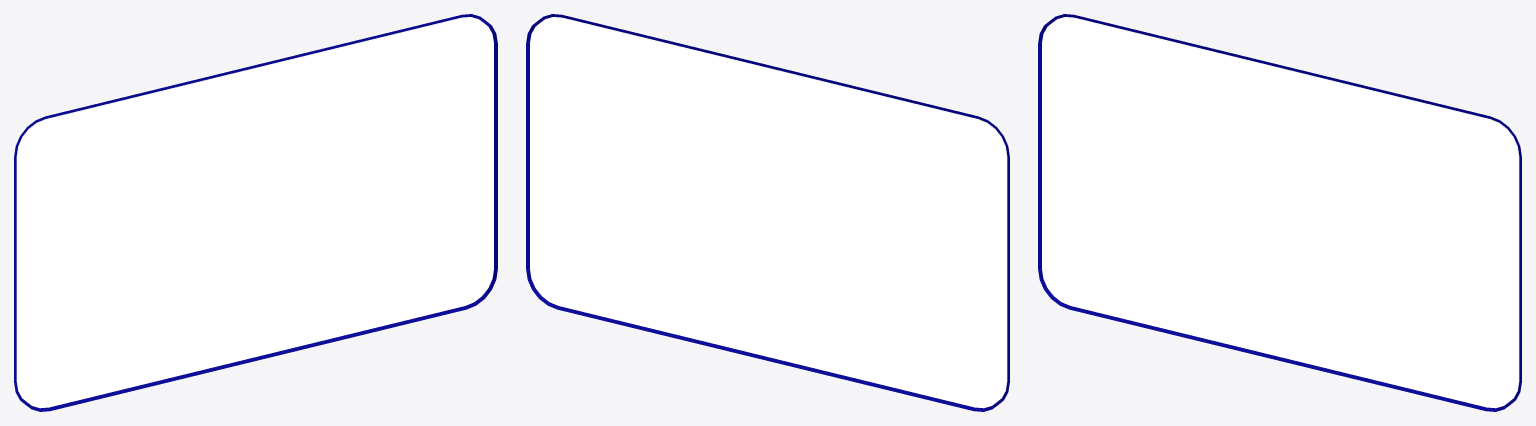
The model's file is InfoSMPL.glb.
3 renders of one model, left to right at view 1: azimuth 30°, elevation 25°; view 2: azimuth 150°, elevation 25°; view 3: azimuth 330°, elevation 25°, orthographic.
Visible parts, largest first — view 1: Plane; view 2: Plane; view 3: Plane.
Boxes of the visible parts, <box> form: Plane: <box>14,14,497,411</box>; Plane: <box>526,14,1009,411</box>; Plane: <box>1038,14,1521,411</box>.
Size of the model in its own units: 3.03 by 1.76 by 0.0516.
